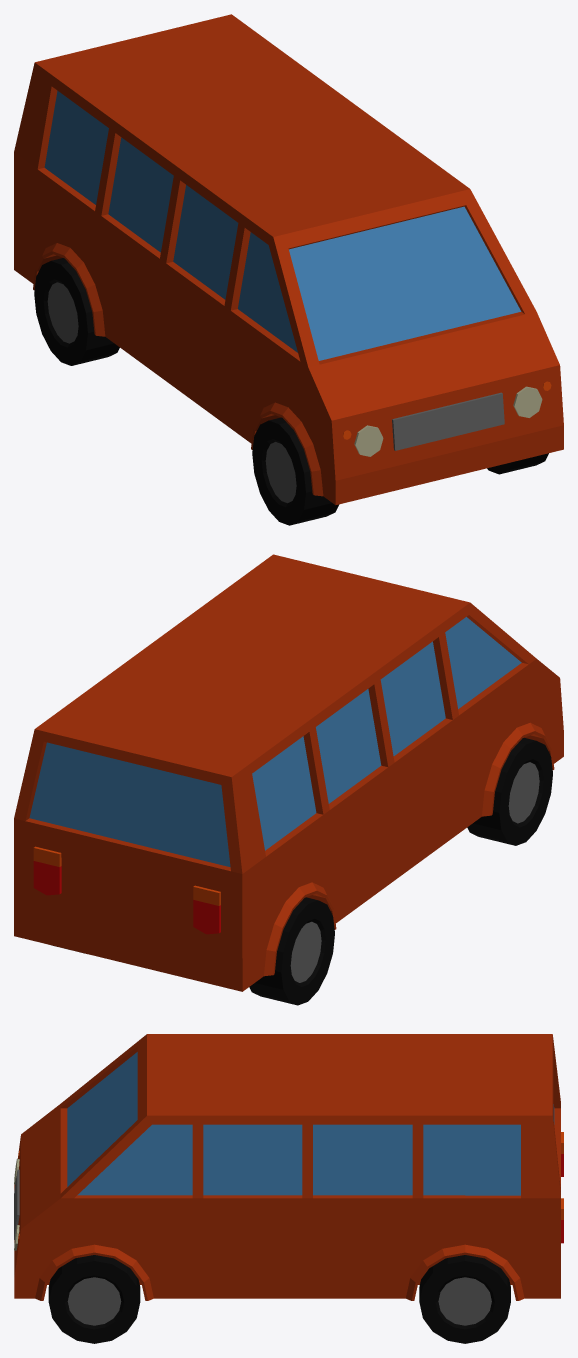
File: car-minibus-orange.obj
The picture shows the model from 3 angles, top to bottom: view 1: azimuth 30°, elevation 25°; view 2: azimuth 150°, elevation 25°; view 3: azimuth 270°, elevation 25°; orthographic projection. The views are drawn at different scales.
Parts seen in each view (by area): view 1: car-minibus-orange_Cube.608_carmaterial_orange, car-minibus-orange_Cube.608_windows, car-minibus-orange_Cube.608_tires, car-minibus-orange_Cube.608_metal, car-minibus-orange_Cube.608_lights; view 2: car-minibus-orange_Cube.608_carmaterial_orange, car-minibus-orange_Cube.608_windows, car-minibus-orange_Cube.608_tires, car-minibus-orange_Cube.608_metal, car-minibus-orange_Cube.608_lights.red, car-minibus-orange_Cube.608_lights.orange; view 3: car-minibus-orange_Cube.608_carmaterial_orange, car-minibus-orange_Cube.608_windows, car-minibus-orange_Cube.608_tires, car-minibus-orange_Cube.608_metal.
Boxes of the visible parts, box(x1,y1,x2,y2) form: car-minibus-orange_Cube.608_carmaterial_orange: box(14, 14, 563, 505); car-minibus-orange_Cube.608_windows: box(44, 90, 521, 360); car-minibus-orange_Cube.608_tires: box(34, 258, 548, 525); car-minibus-orange_Cube.608_metal: box(47, 282, 504, 503); car-minibus-orange_Cube.608_lights: box(354, 386, 542, 456); car-minibus-orange_Cube.608_carmaterial_orange: box(14, 554, 563, 991); car-minibus-orange_Cube.608_windows: box(29, 617, 521, 867); car-minibus-orange_Cube.608_tires: box(53, 737, 552, 1005); car-minibus-orange_Cube.608_metal: box(290, 762, 539, 982); car-minibus-orange_Cube.608_lights.red: box(33, 861, 220, 934); car-minibus-orange_Cube.608_lights.orange: box(33, 846, 220, 905); car-minibus-orange_Cube.608_carmaterial_orange: box(14, 1034, 560, 1300); car-minibus-orange_Cube.608_windows: box(67, 1052, 554, 1195); car-minibus-orange_Cube.608_tires: box(48, 1255, 510, 1343); car-minibus-orange_Cube.608_metal: box(14, 1169, 491, 1325).
Size of the model in its own units: 0.954 by 0.945 by 2.16.
